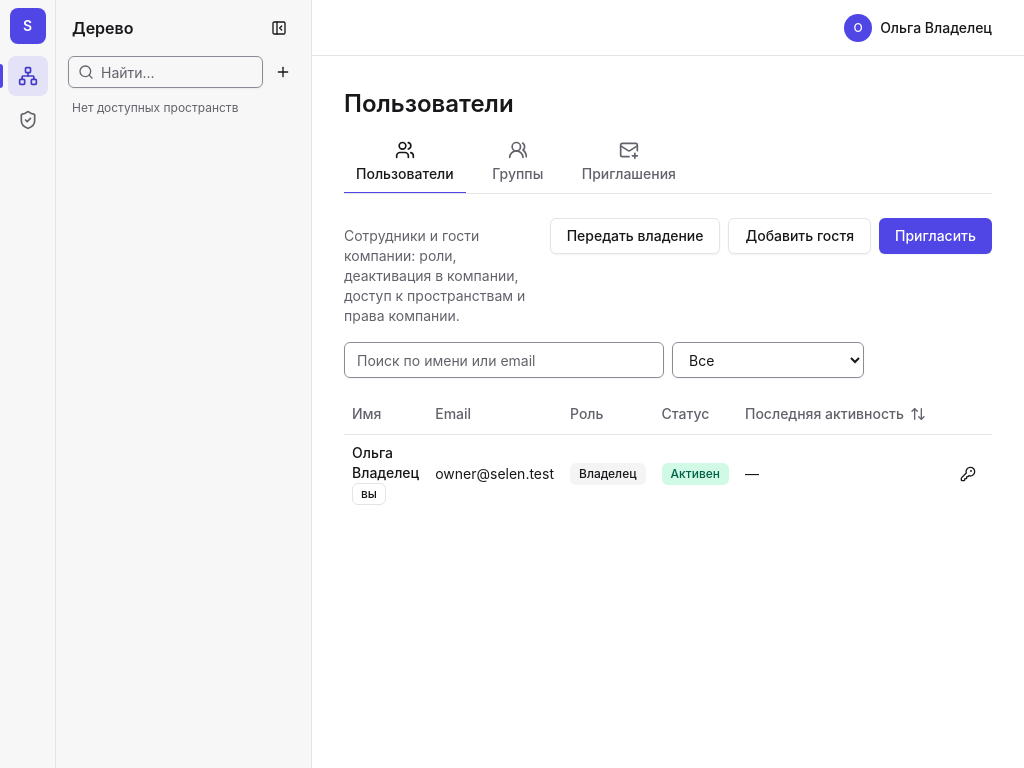
Админка пользователей › Владелец приглашает администратора через диалог
Click the button "Пригласить" at {"x": 936, "y": 236}, box [879,218,992,254]
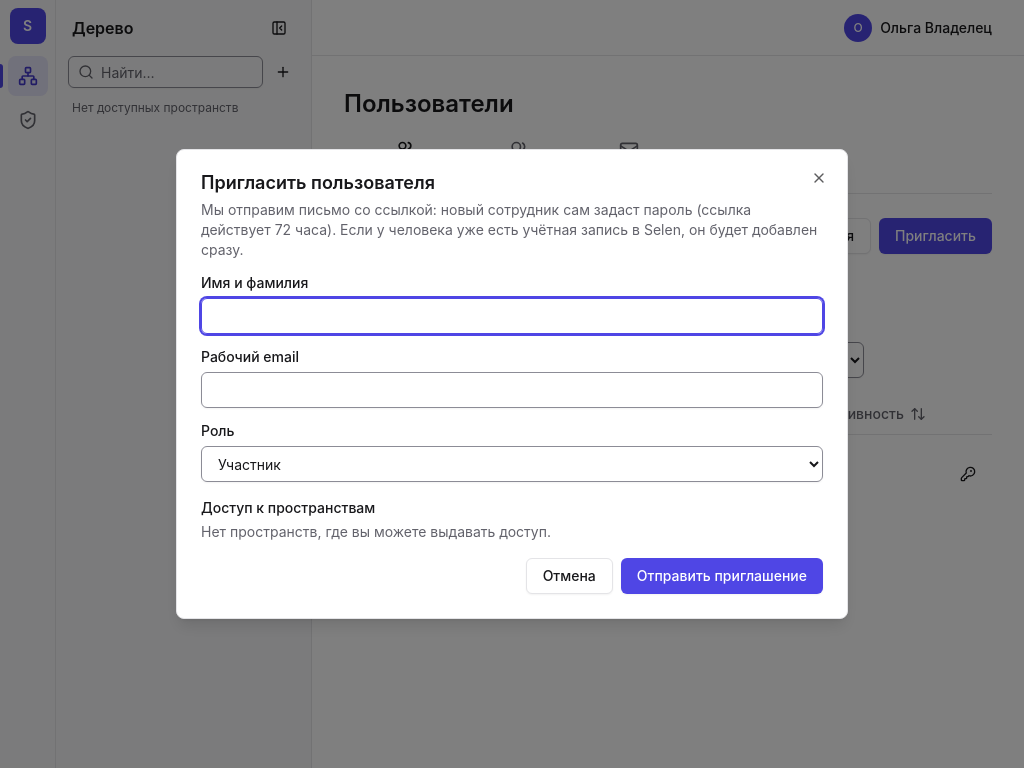
Type "Борис Новиков" into the field labelled "Имя и фамилия" at {"x": 512, "y": 316}, box [201,298,823,334]
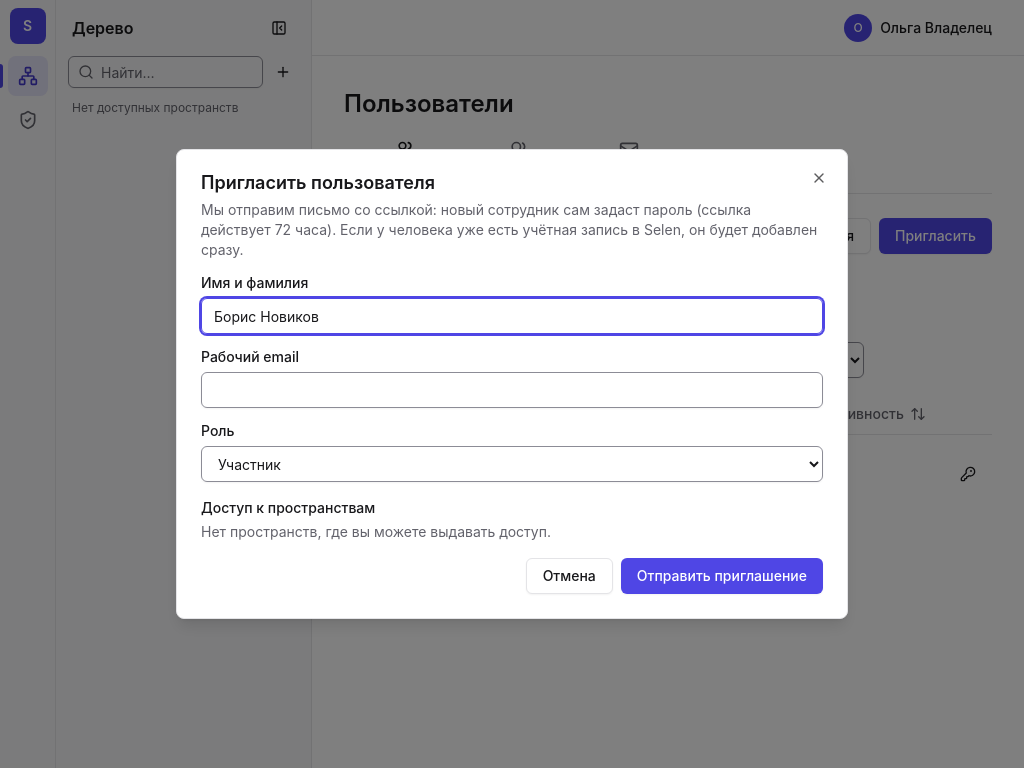
Type "boris@selen.test" into the field labelled "Рабочий email" at {"x": 512, "y": 390}, box [201,372,823,408]
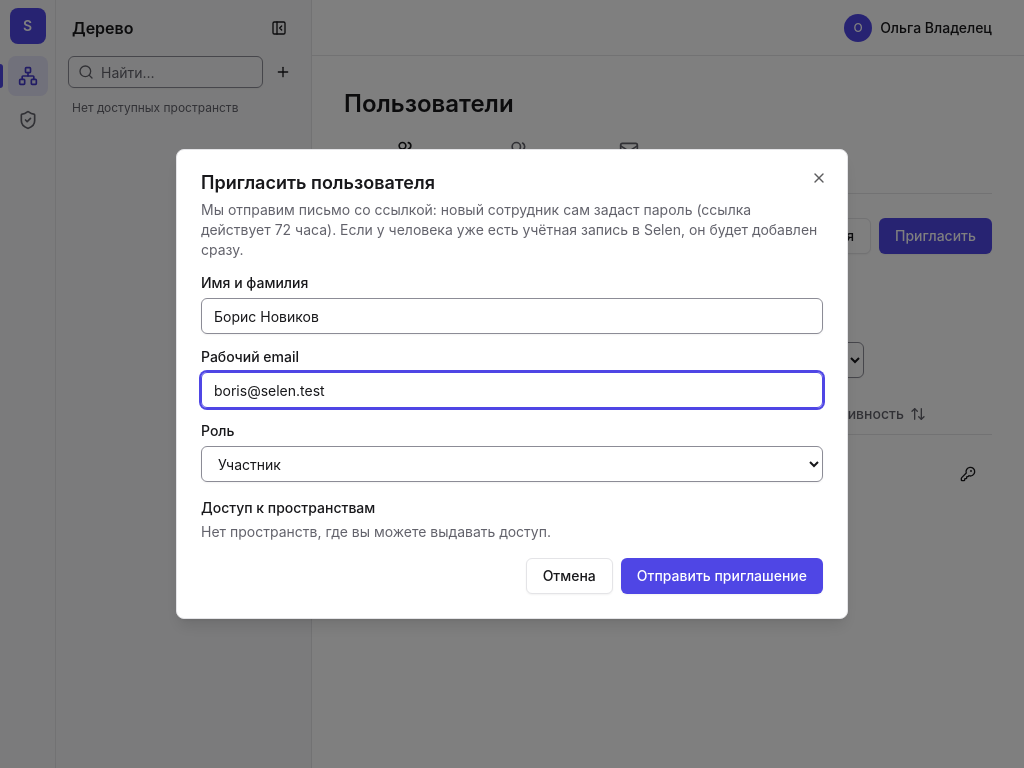
Select "Администратор" in the dropdown labelled "Роль" at {"x": 512, "y": 464}, box [201,446,823,482]
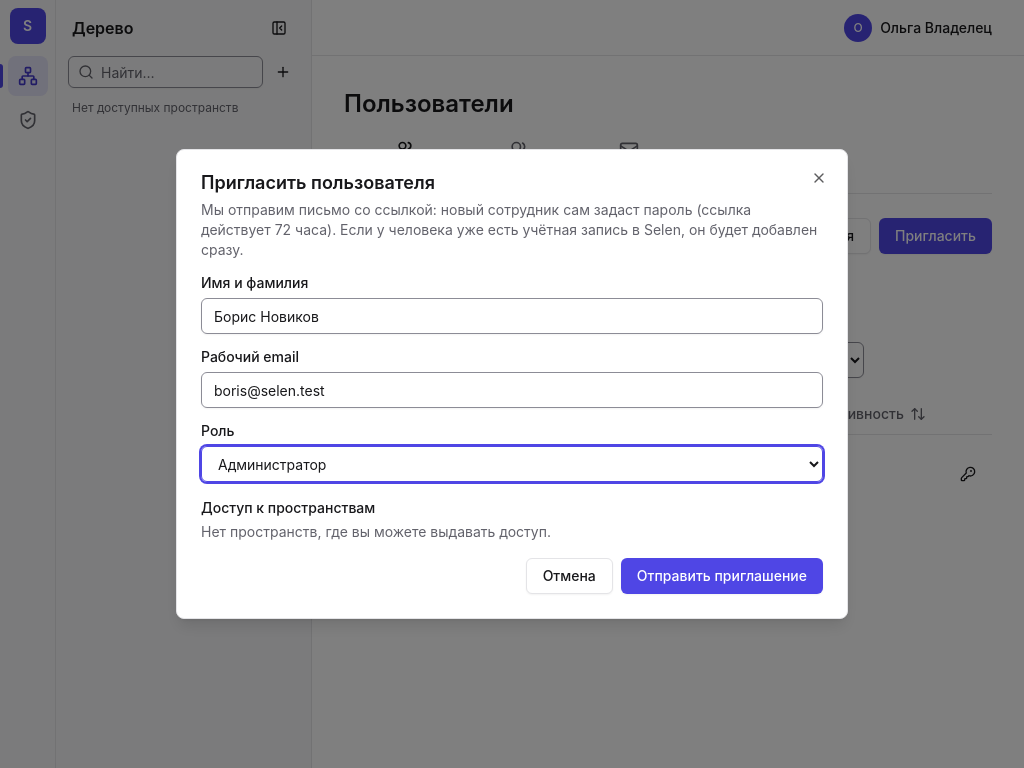
Click the button "Отправить приглашение" at {"x": 722, "y": 576}, box [621,558,823,594]
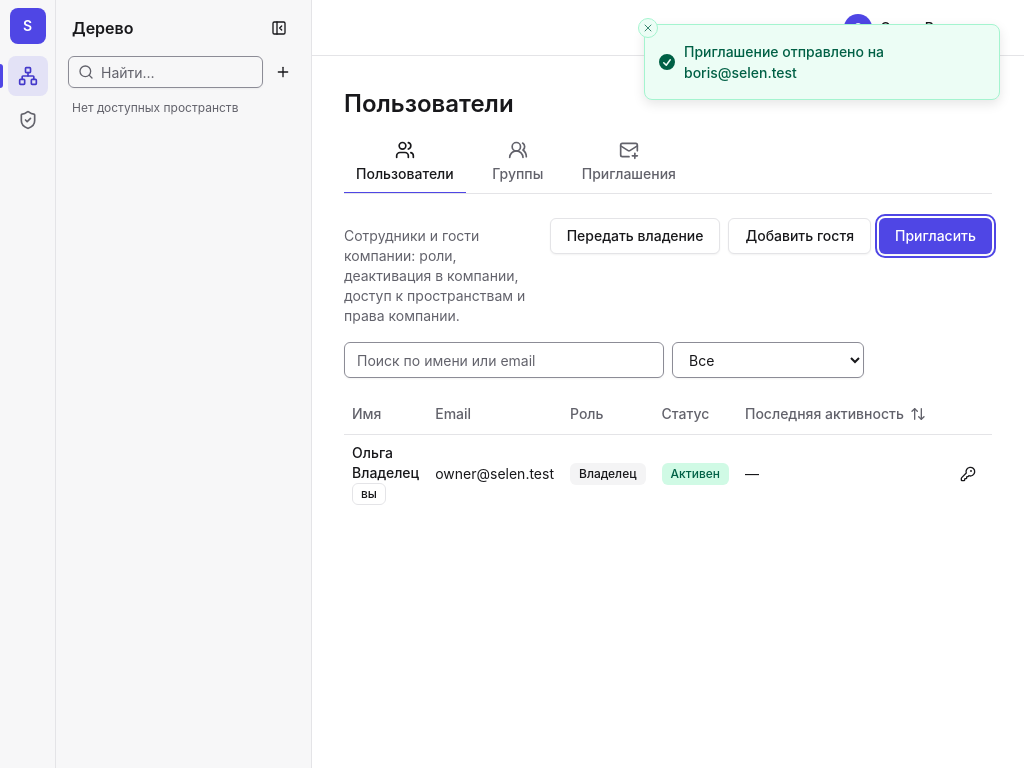
Check: the text "Приглашение отправлено на boris@selen.test" is shown, box [684,43,884,81]
